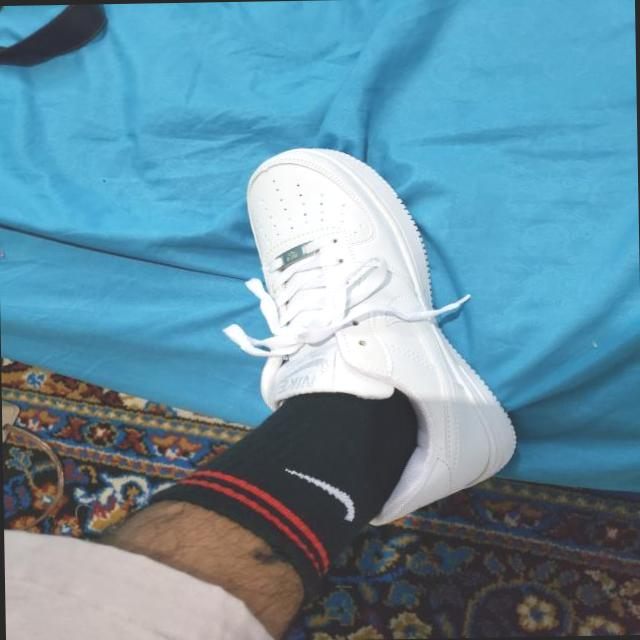nike_fake_airforce: (222, 136, 520, 533)
